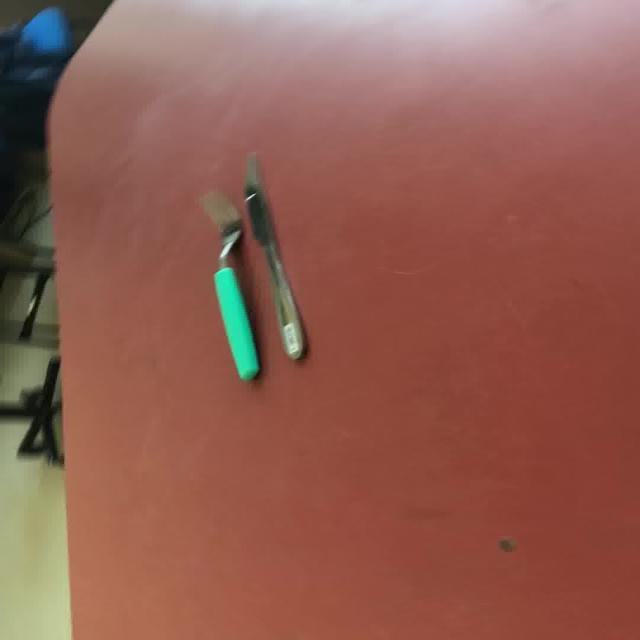knife fork: (242, 151, 306, 360), (198, 188, 260, 381)
